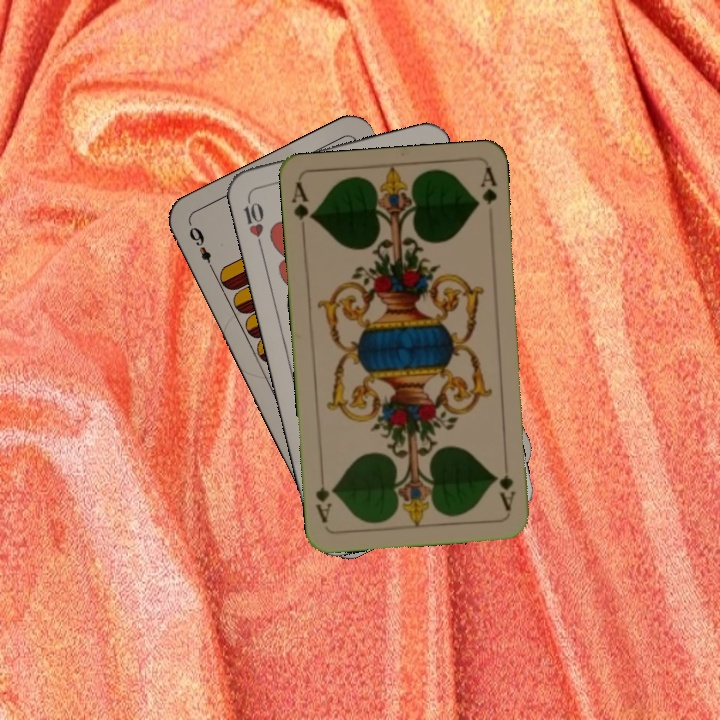E9: (184, 223, 218, 276)
GA: (288, 179, 317, 238), (495, 455, 518, 514)
H10: (239, 191, 267, 250)
